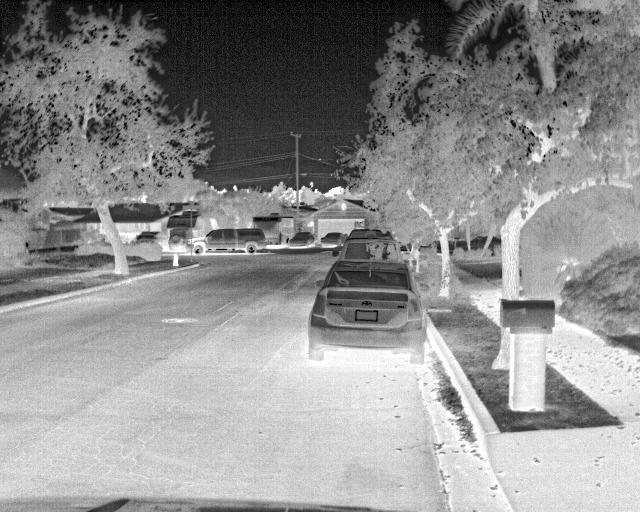car: (307, 258, 429, 364), (192, 228, 267, 254), (342, 225, 390, 262), (286, 227, 314, 248), (317, 229, 344, 249)
